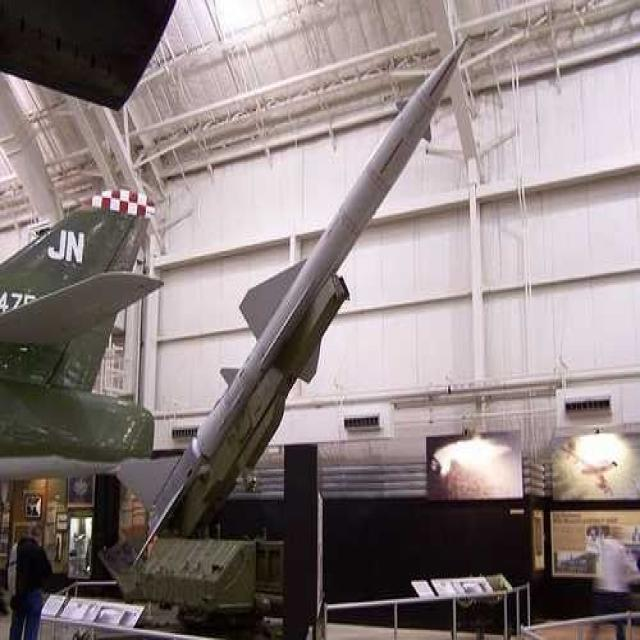missile: (124, 31, 472, 574)
